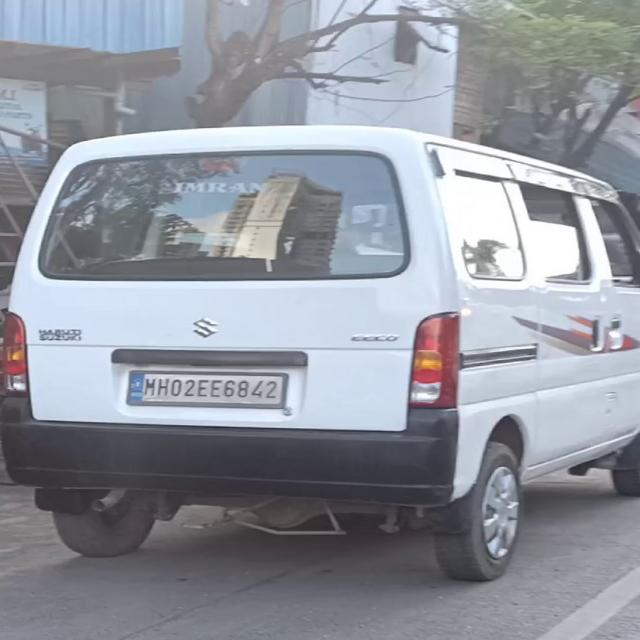Plate: (128, 372, 284, 404)
